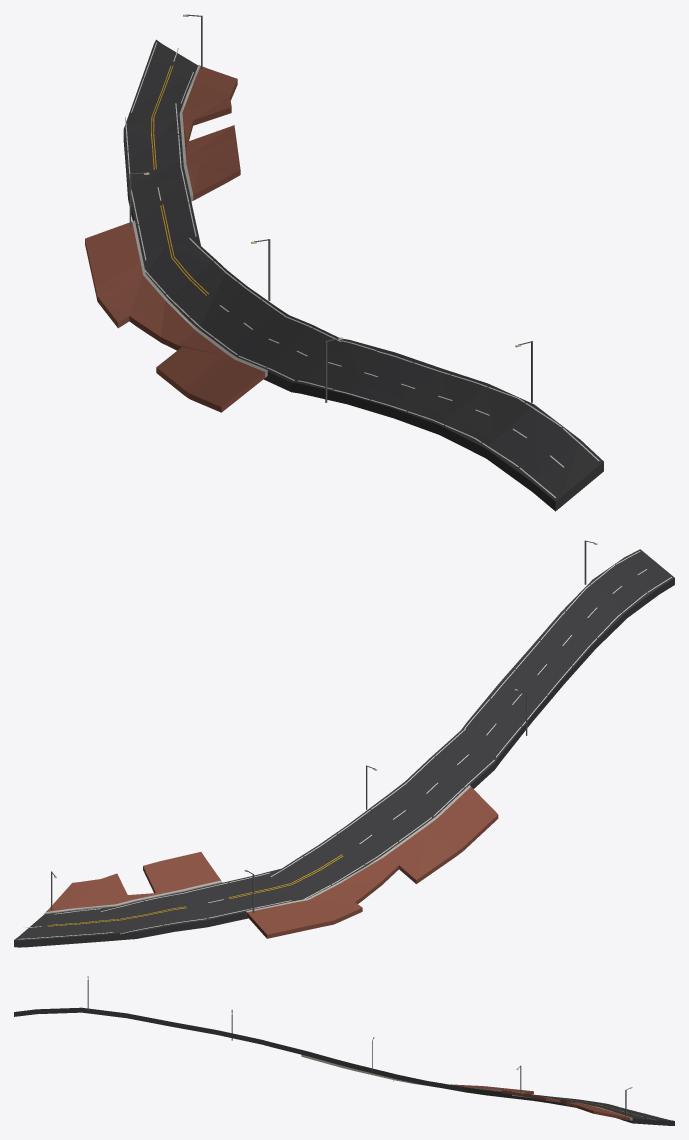
3 views of the same model, one above another, from view 1: azimuth 30°, elevation 25°; view 2: azimuth 150°, elevation 25°; view 3: azimuth 270°, elevation 25° (orthographic). The views are drawn at different scales.
Bounding box in the file's own units: 39.75 × 29.35 × 147.
